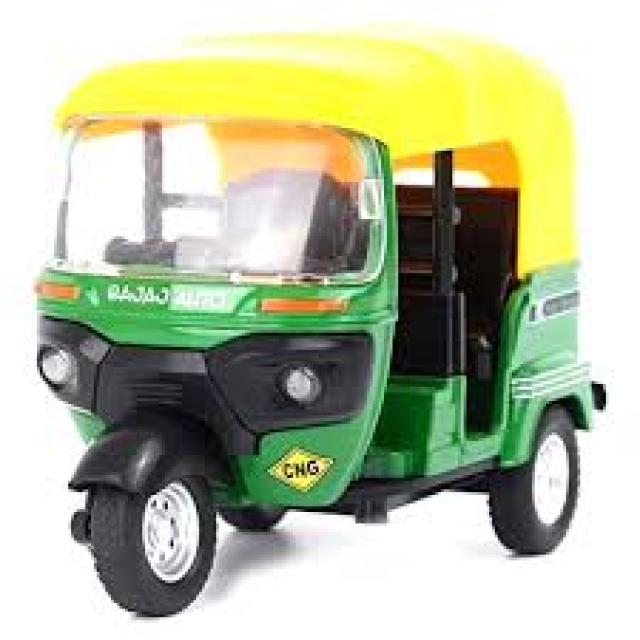tuktuk: (25, 15, 623, 633)
